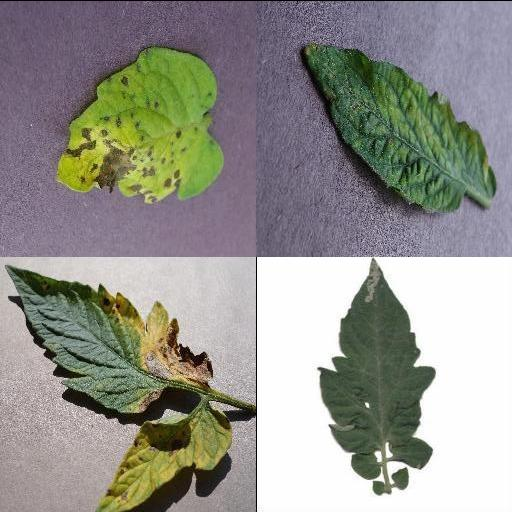Early Blight: (5, 264, 215, 412)
Leaf Miner: (318, 256, 440, 455)
Mosaic Virus: (302, 42, 500, 212)
Septoria: (54, 44, 226, 202)
